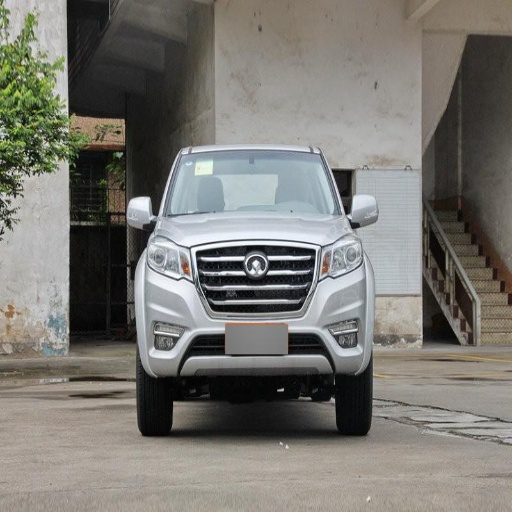front_bumper: (137, 244, 370, 380)
front_right_light: (146, 236, 191, 278)
hood: (159, 205, 348, 245)
